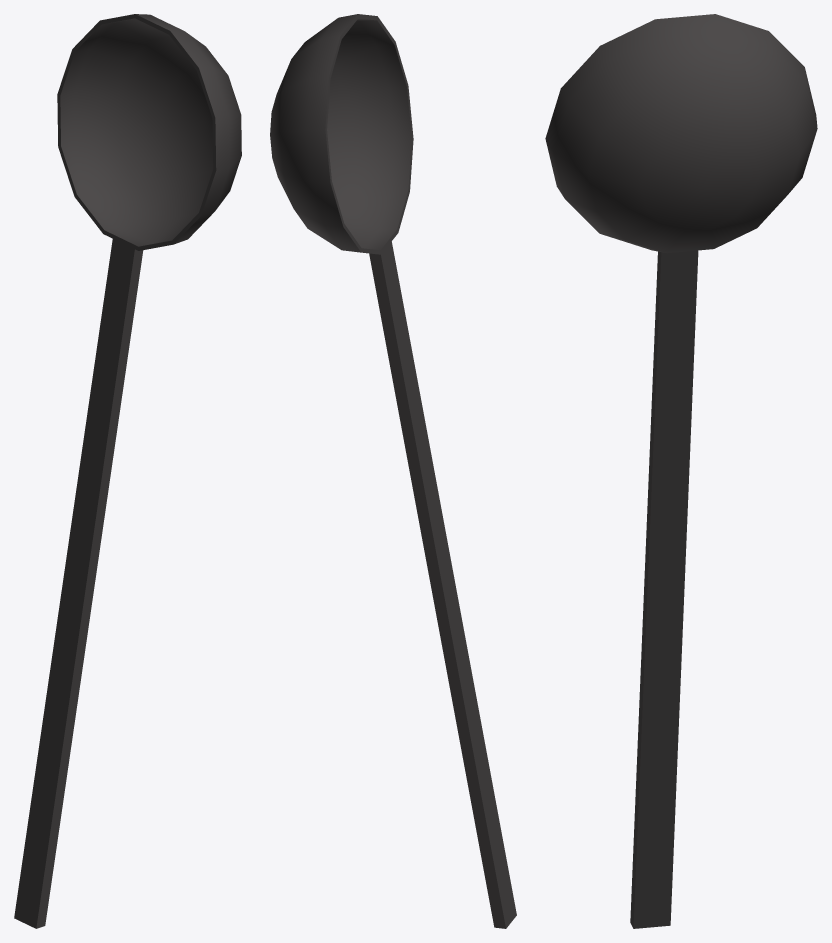
The model's file is Kitchen_Spatula06.FBX.
The picture shows the model from 3 angles, left to right: view 1: azimuth 30°, elevation 25°; view 2: azimuth 150°, elevation 25°; view 3: azimuth 270°, elevation 25°; orthographic projection. The views are drawn at different scales.
Parts seen in each view (by area): view 1: Kitchen_spatula_6; view 2: Kitchen_spatula_6; view 3: Kitchen_spatula_6.
Boxes of the visible parts, x1,y1,x2,y2 form: Kitchen_spatula_6: [14, 14, 241, 928]; Kitchen_spatula_6: [270, 14, 516, 928]; Kitchen_spatula_6: [545, 14, 817, 928].
Size of the model in its own units: 0.0773 by 0.3004 by 0.0752.
